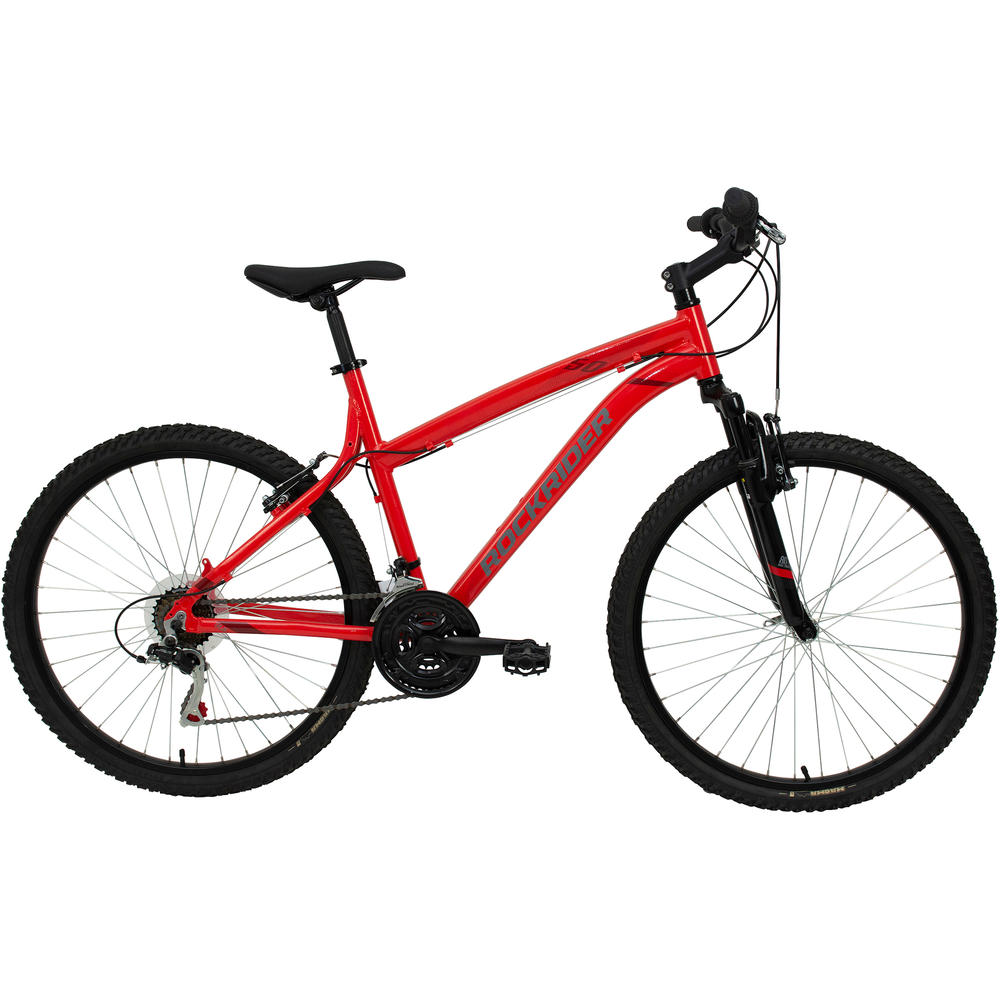RoadBike: (413, 352, 657, 702), (485, 468, 684, 668), (323, 492, 439, 673)
